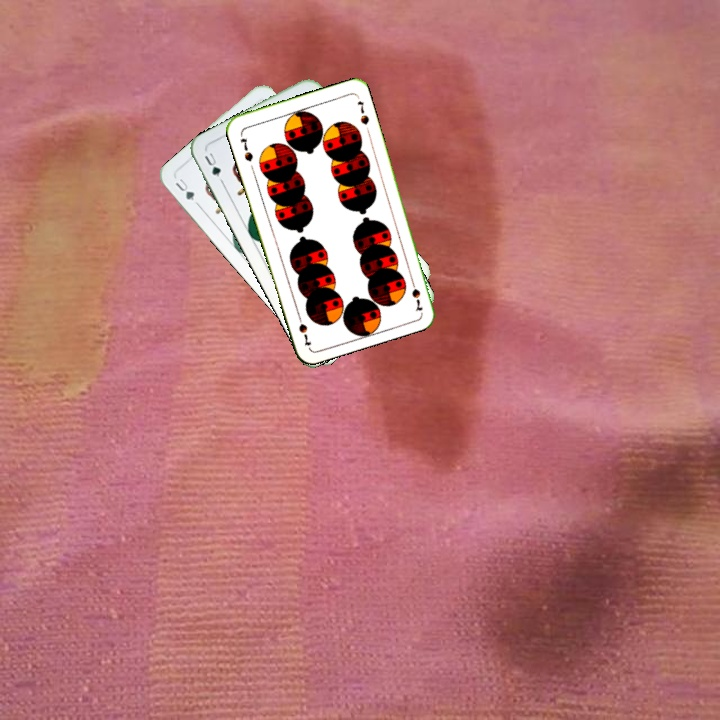GU: (171, 174, 197, 204), (200, 148, 223, 180)
S7: (406, 273, 425, 314), (236, 134, 256, 164)
